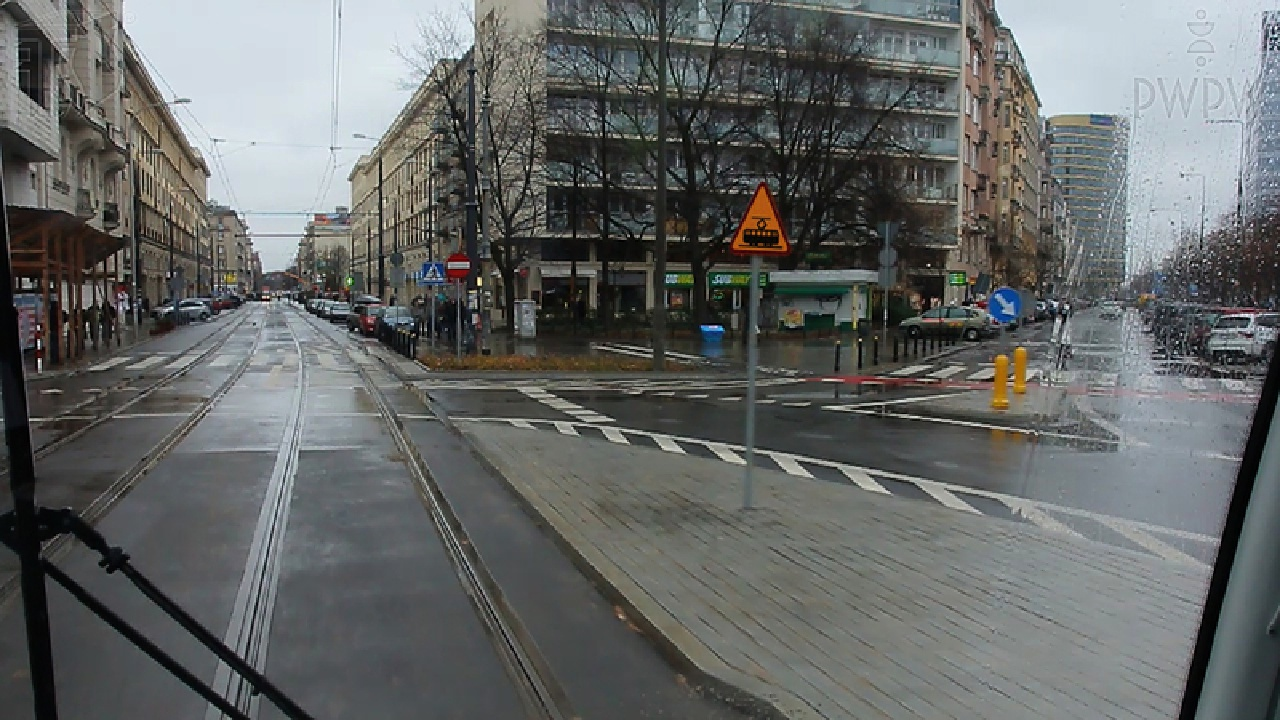A21: (728, 180, 795, 259)
